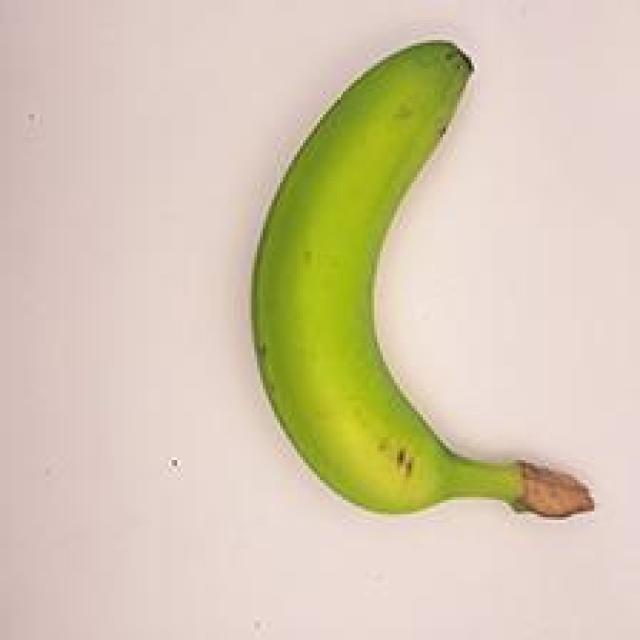Unripe: (202, 17, 606, 549)
